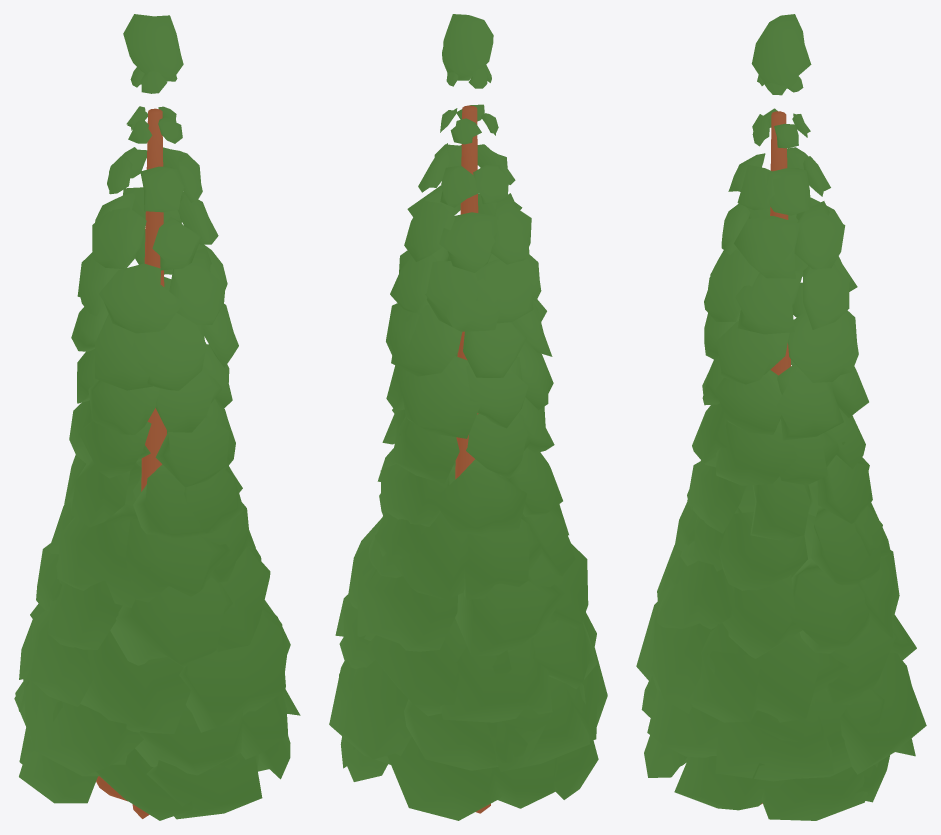
File: Blender_IncenseCedar_1.glb
3 views of the same model, side by side, from view 1: azimuth 30°, elevation 25°; view 2: azimuth 150°, elevation 25°; view 3: azimuth 270°, elevation 25° (orthographic).
Parts seen in each view (by area): view 1: Blender_IncenseCedar_1; view 2: Blender_IncenseCedar_1; view 3: Blender_IncenseCedar_1.
Part boxes in pixels (left/top/right/bottom): Blender_IncenseCedar_1: left=14, top=14, right=300, bottom=820; Blender_IncenseCedar_1: left=329, top=14, right=607, bottom=820; Blender_IncenseCedar_1: left=636, top=14, right=926, bottom=820.
Size of the model in its own units: 10.03 by 30.8 by 10.34.
